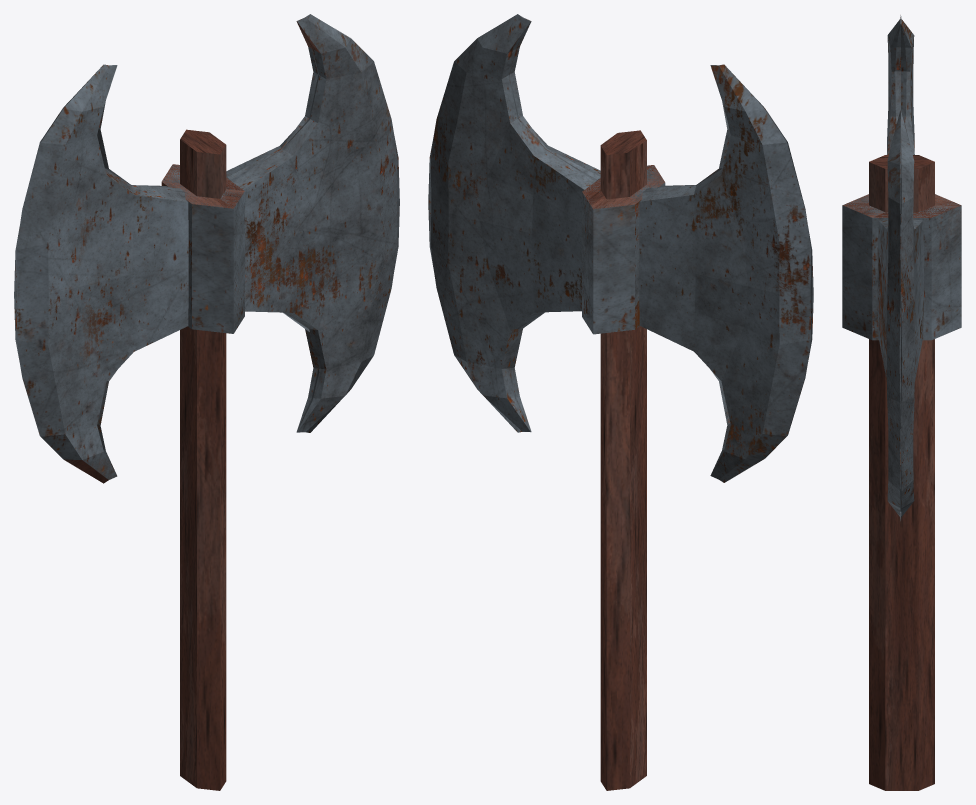
File: axe.glb
The picture shows the model from 3 angles, left to right: view 1: azimuth 30°, elevation 25°; view 2: azimuth 150°, elevation 25°; view 3: azimuth 270°, elevation 25°; orthographic projection. The views are drawn at different scales.
Parts seen in each view (by area): view 1: Plane; view 2: Plane; view 3: Plane.
Boxes of the visible parts, <box> form: Plane: <box>14,14,399,790</box>; Plane: <box>428,14,813,790</box>; Plane: <box>842,15,961,790</box>.
Bounding box in the file's own units: 1.84 × 3.39 × 0.5061.
Materials: 2 (2 with a texture image).
